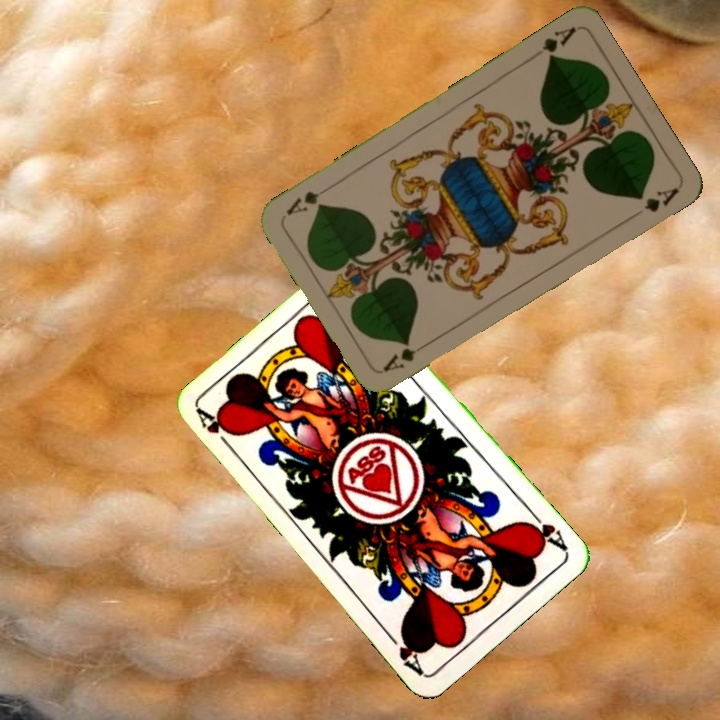GA: (379, 337, 433, 375), (538, 23, 578, 63)
HA: (521, 505, 570, 553), (193, 405, 238, 455)
